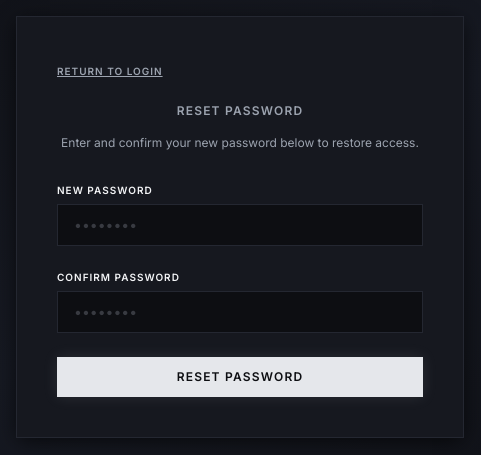
ChangePassword Page › should show loading state while submitting
The image size is (481, 455).
Type "newpass123" into the password field with placeholder "••••••••" at (240, 225), box [57,204,423,246]
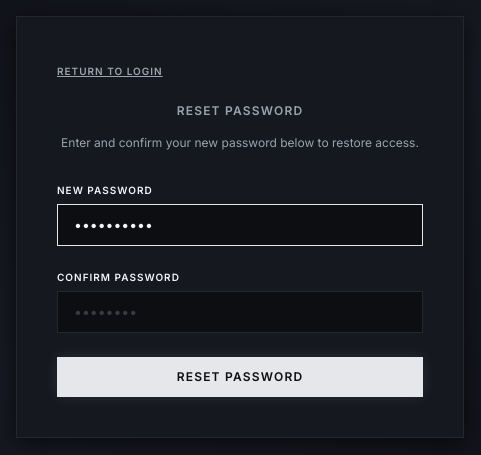
Type "newpass123" into the password field with placeholder "••••••••" at (240, 312), box [57,291,423,333]
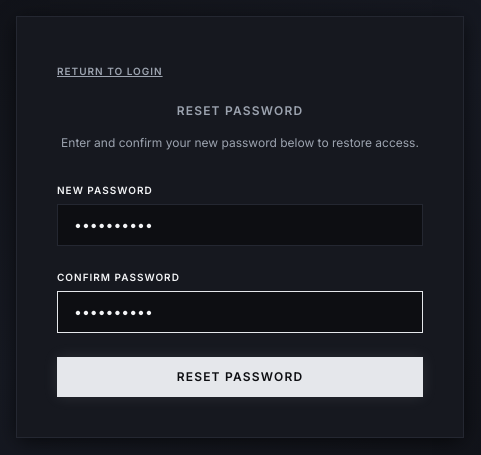
Click the button "Reset Password" at (240, 377), box [57,357,423,397]
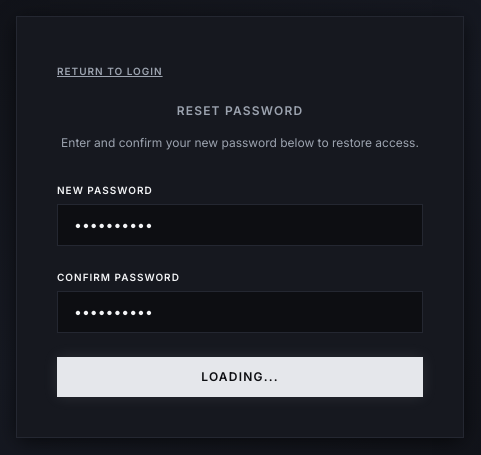
Expected: the button "Loading..." is shown, [57,357,423,397]
